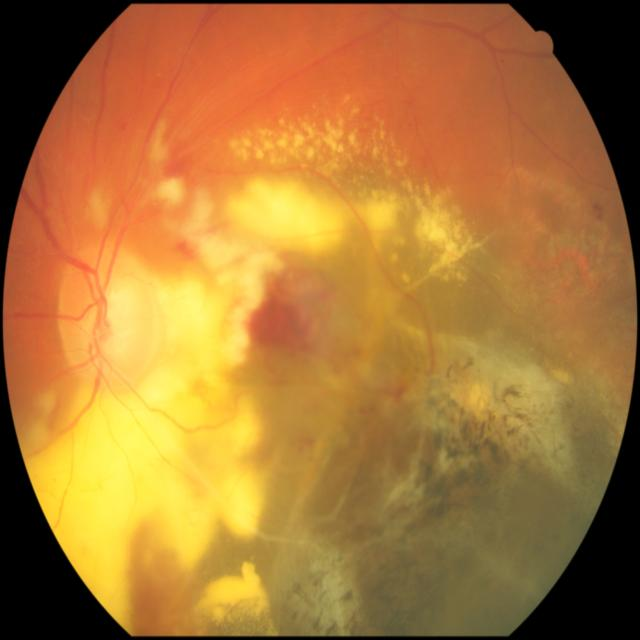OC: (105, 285, 137, 355)
OD: (56, 249, 156, 381)
